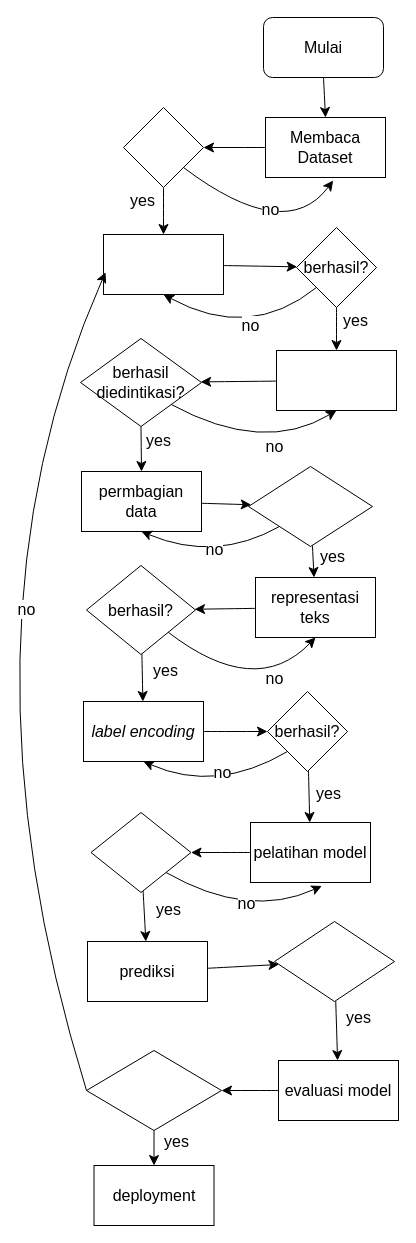
Some shapes in this 416 by 1243 pixel diagram are drawn without their labels. Here are the shapes that lost their labels. From the top down, the centre of each, then its label:
(x=163, y=147): terbaca?
(x=163, y=264): pra pemrosesan data
(x=336, y=380): identifikasi kata kunci
(x=310, y=506): telah dibagi?
(x=140, y=852): berjalan baik?
(x=334, y=961): berhasil prediksi?
(x=154, y=1090): memuaskan?
